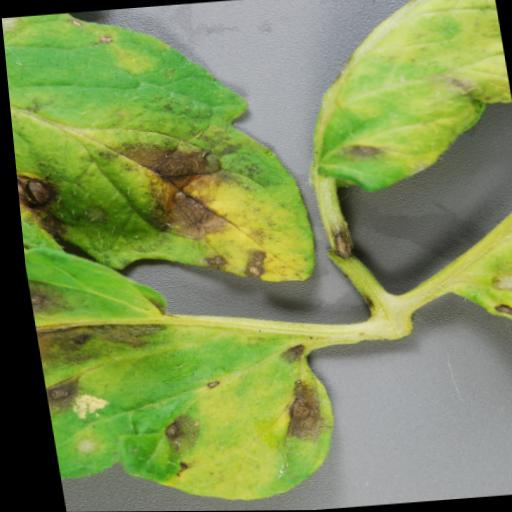Early Blight: (0, 0, 319, 302), (18, 229, 353, 512)
